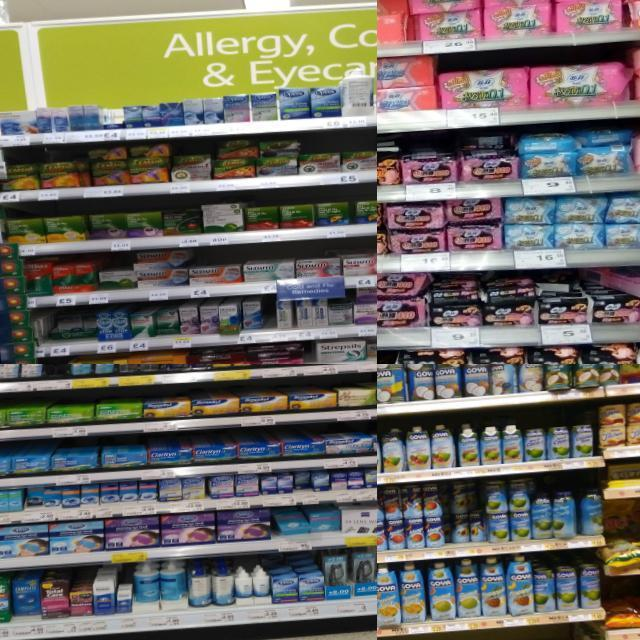Imprecise: (450, 478, 488, 544), (134, 562, 179, 612), (8, 576, 42, 626), (48, 318, 96, 344), (236, 568, 268, 607), (294, 472, 312, 492)
